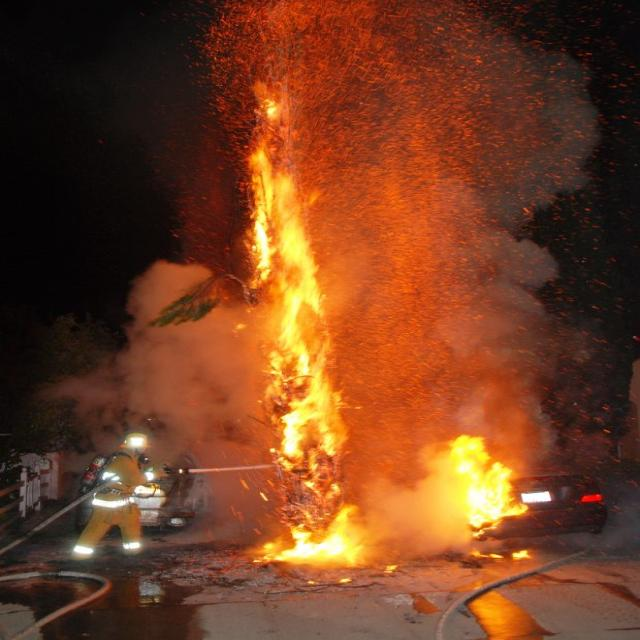Fire: (222, 77, 542, 576)
